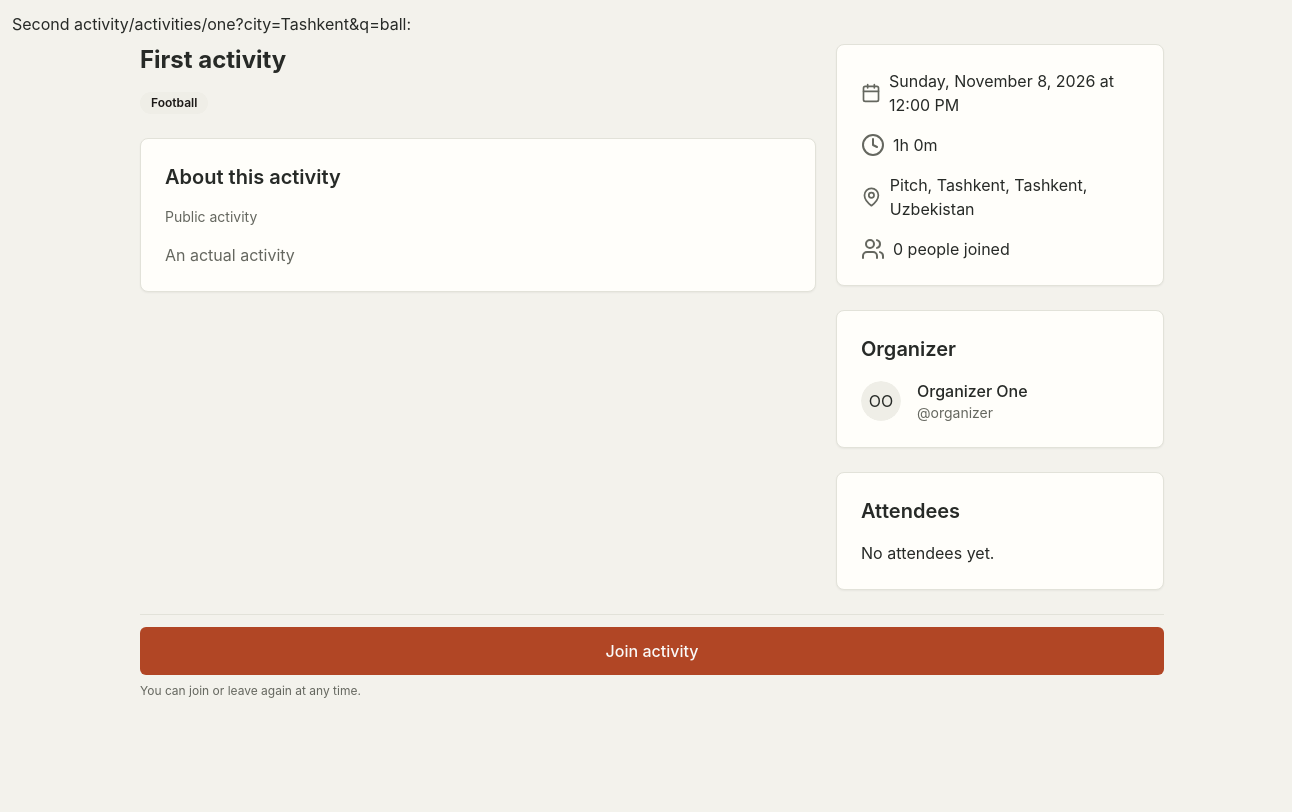
Test: ignores a completed mutation after changing activity
This screenshot has width=1292, height=812.
Click the button "Join activity": (652, 651) 140,627 -> 1164,675
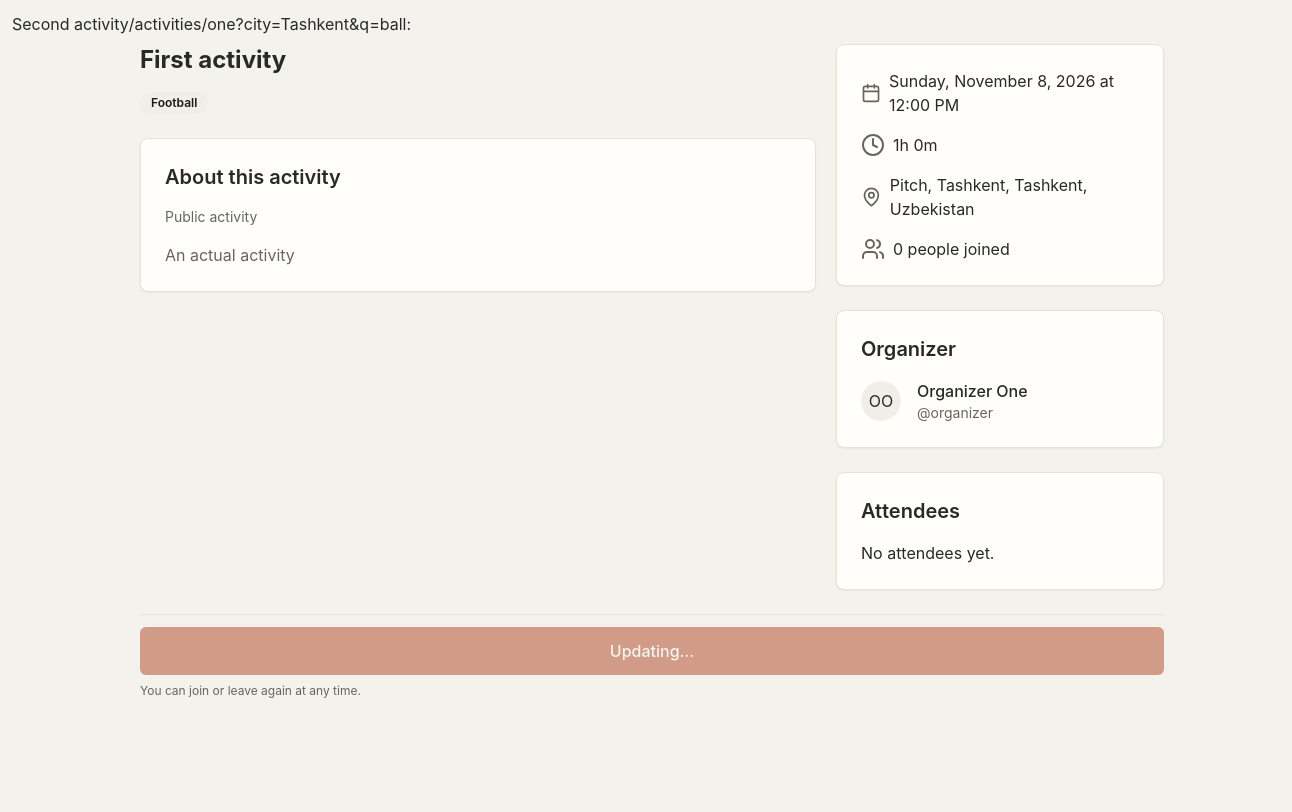
Click the link "Second activity": (70, 24) 12,14 -> 129,34
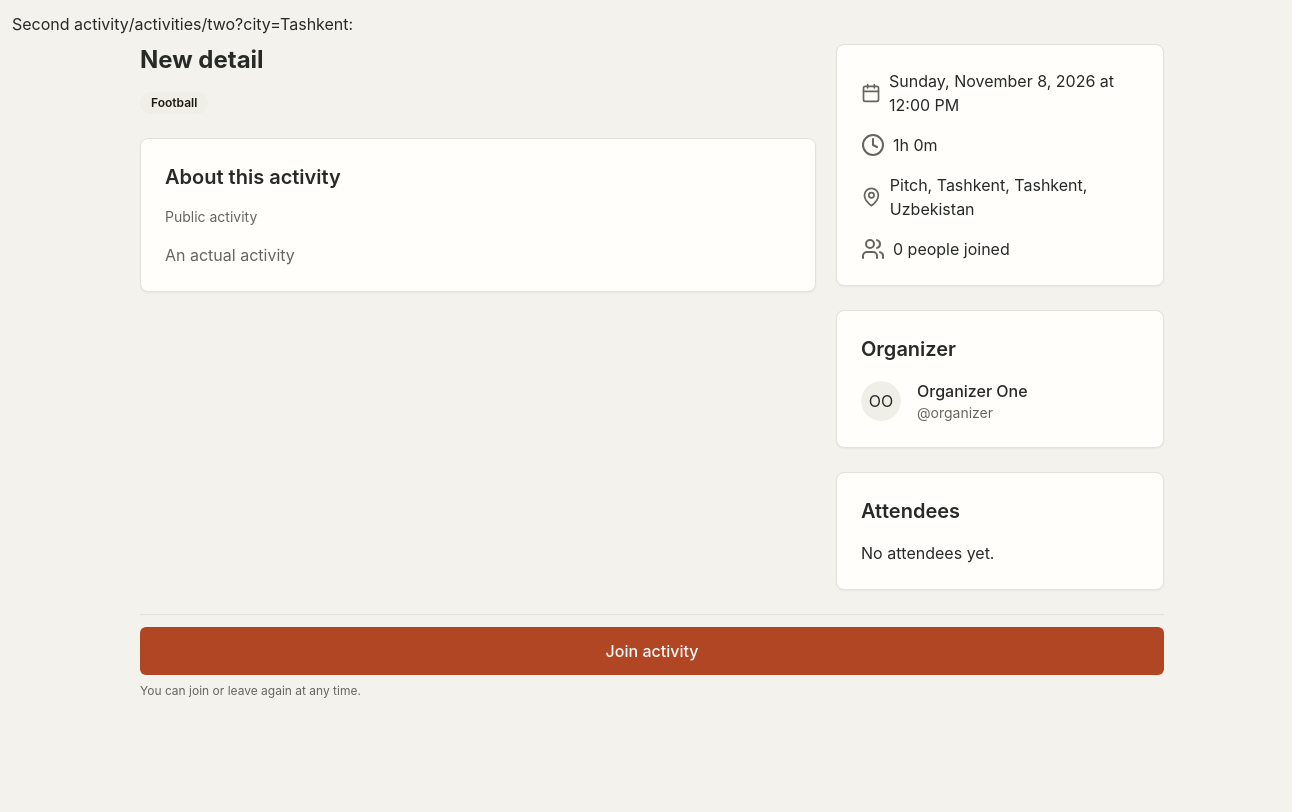
Check: the text "0 people joined" is shown, box 893,237 -> 1010,261
Check: the heading "New detail" is shown, box 140,45 -> 264,74
